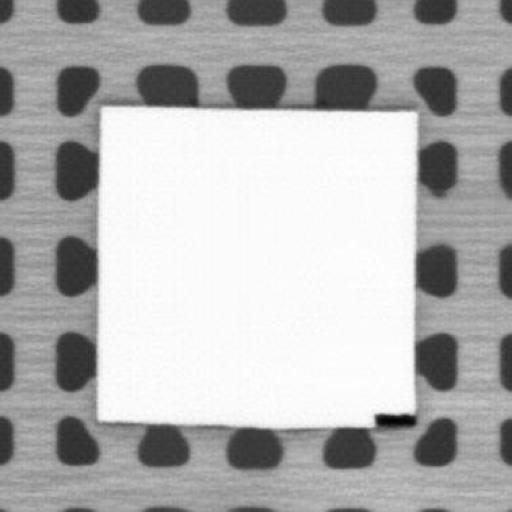DIE_BROKEN: (368, 408, 416, 428)
